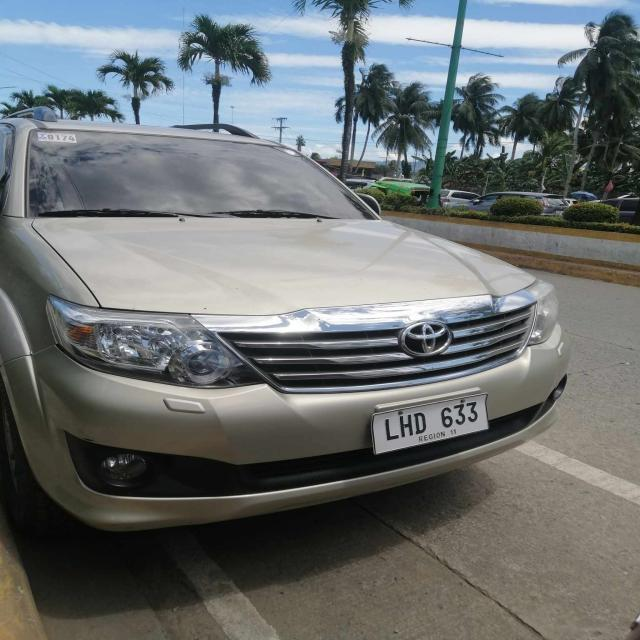license-plate: (369, 392, 492, 458)
